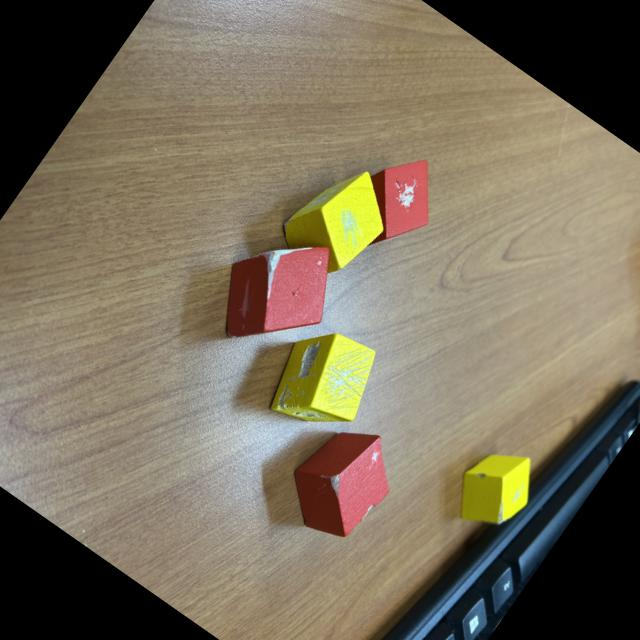broken: (200, 209, 358, 374), (272, 408, 411, 554), (268, 148, 406, 294), (254, 312, 392, 454), (330, 134, 457, 267), (440, 431, 549, 545)
